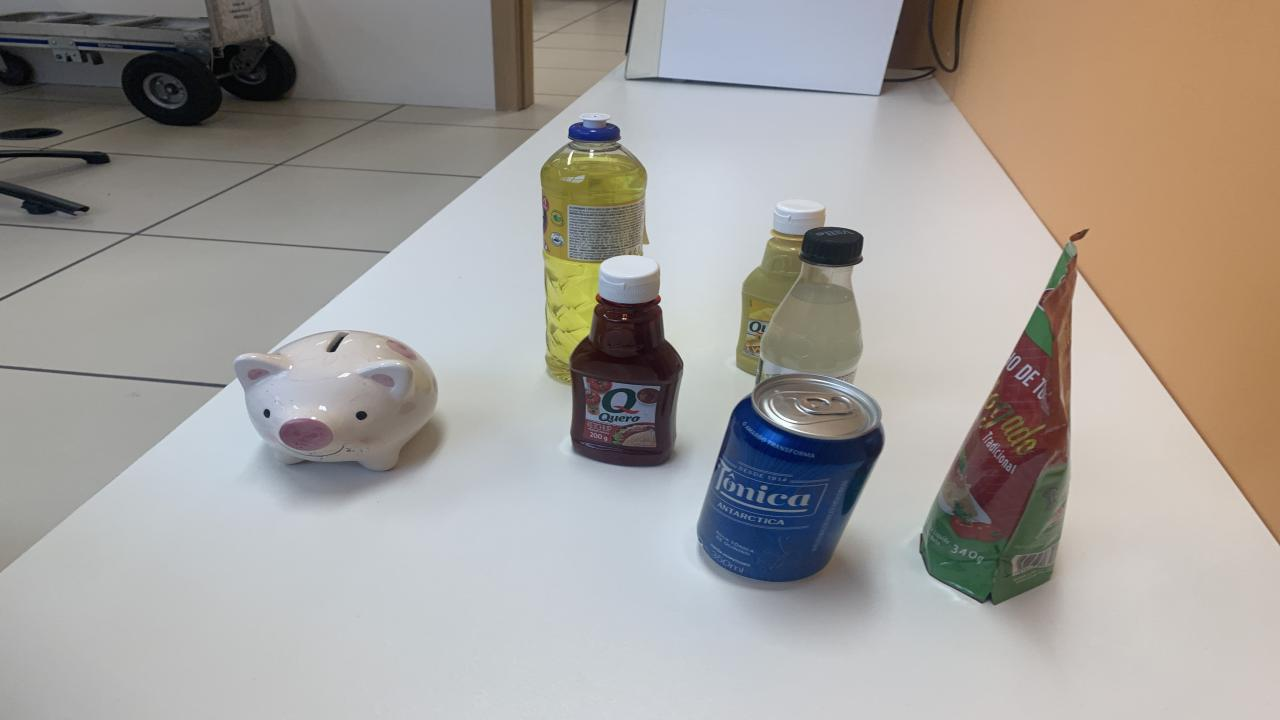Detergent-Cleanup_Items: (540, 112, 648, 382)
Ketchup-Pantry_Items: (570, 255, 682, 467)
Mustard-Pantry_Items: (735, 199, 825, 373)
Pig_Safe-Miscellaneous: (232, 332, 438, 471)
Soda-Drinks: (758, 227, 862, 382)
Tomato_Sauce-Pantry_Items: (920, 232, 1085, 604)
Tonic-Drinks: (698, 373, 885, 581)
